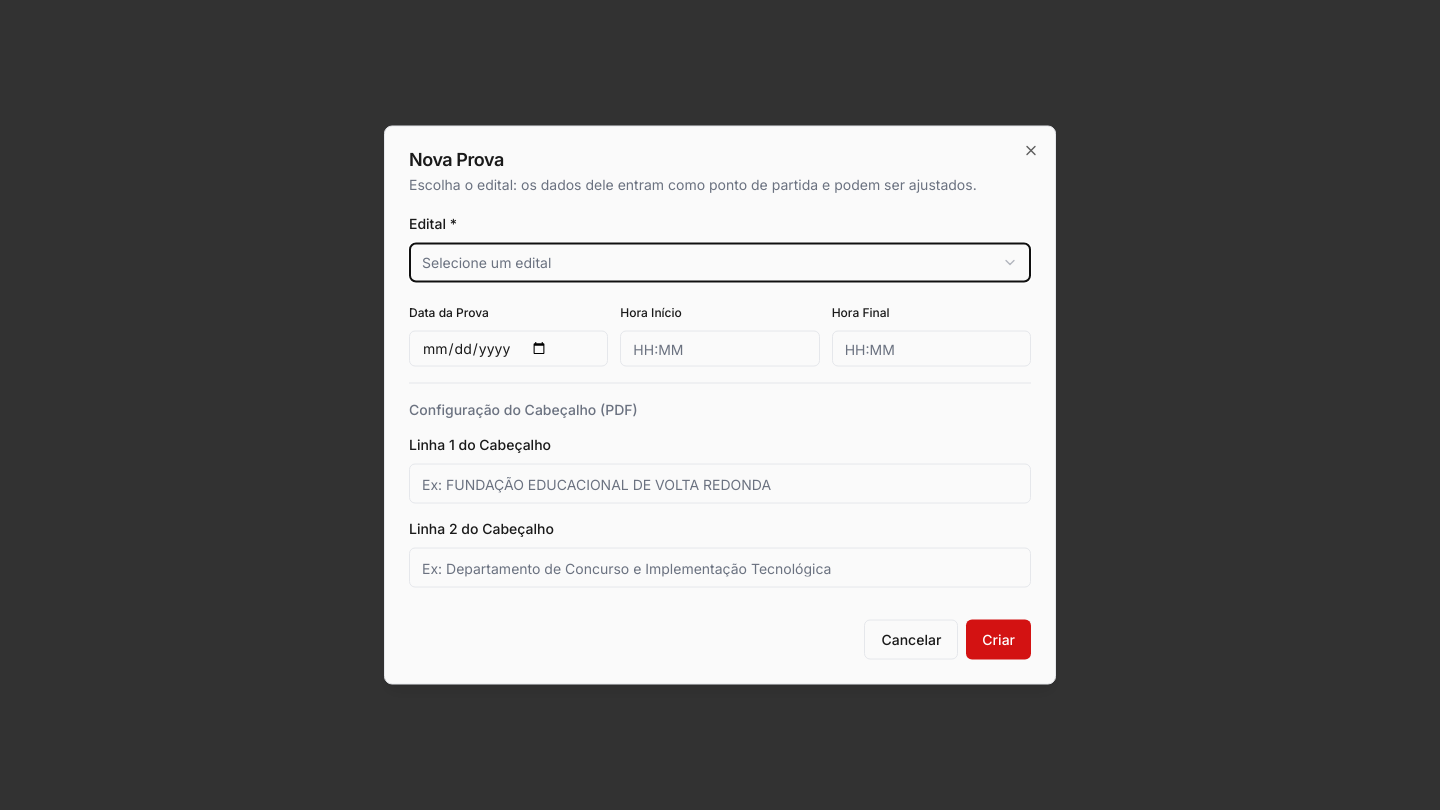
Test: ProvaDialog (interação) › herança edital → prova (D2/D3) › substitui a sugestão ao trocar de edital, ainda na criação
Step 1. Click the dropdown → (487,262), box [409,242,1031,282]
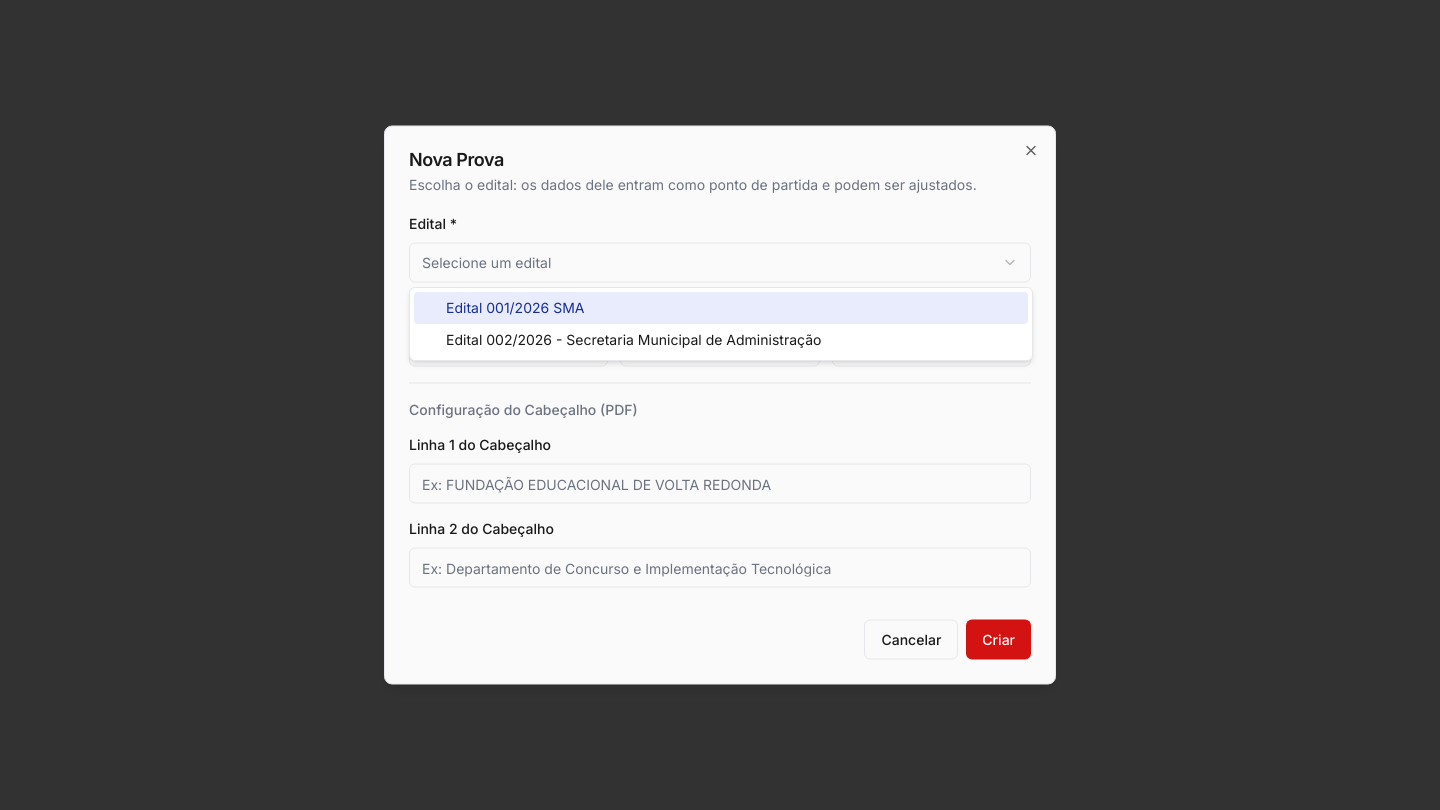
Step 2. Click the option "Edital 001/2026 SMA" → (515,308), box [414,292,1028,324]
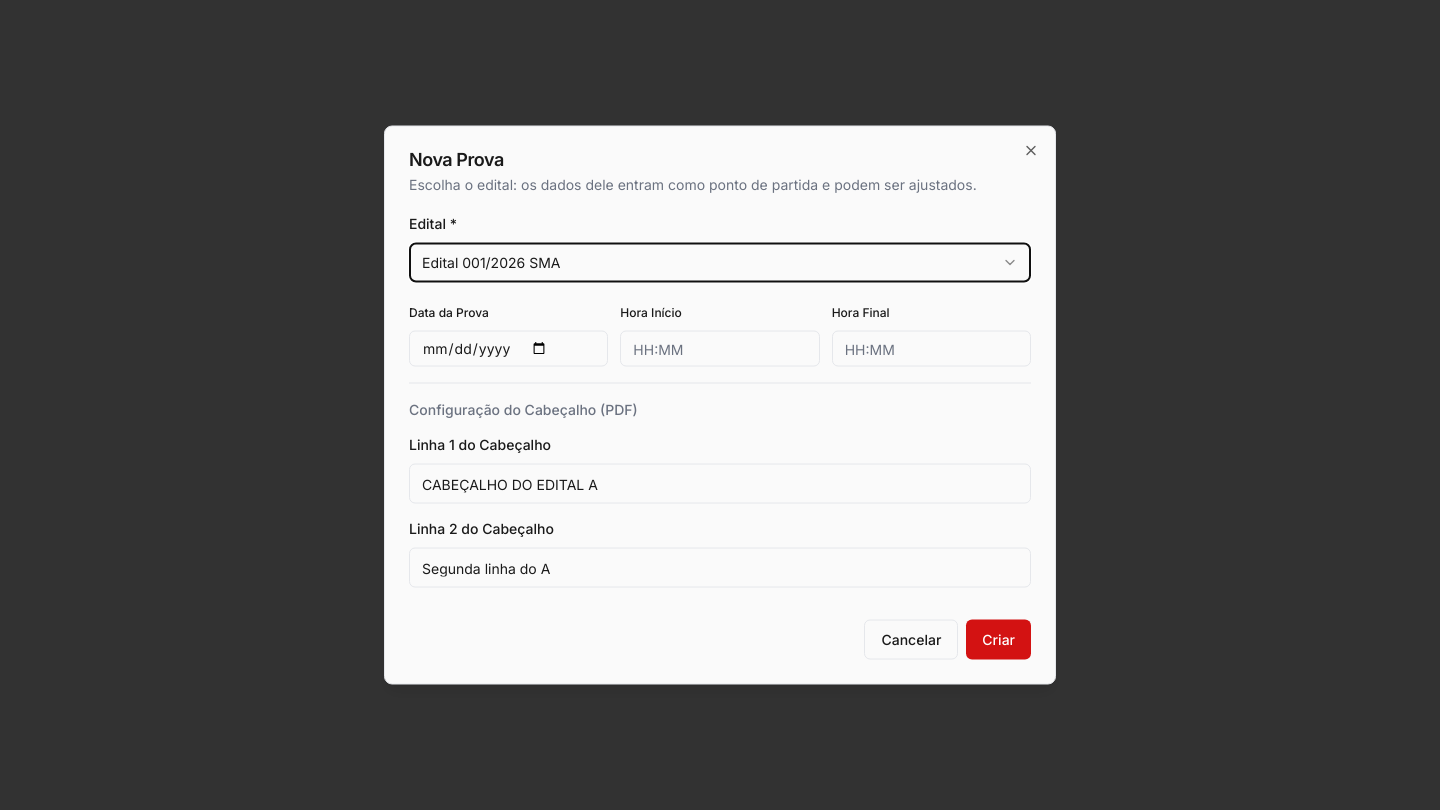
expect the field labelled "Linha 1 do Cabeçalho" holds "CABEÇALHO DO EDITAL A": met, box [409,464,1031,504]
Step 3. Click the dropdown → (491,262), box [409,242,1031,282]
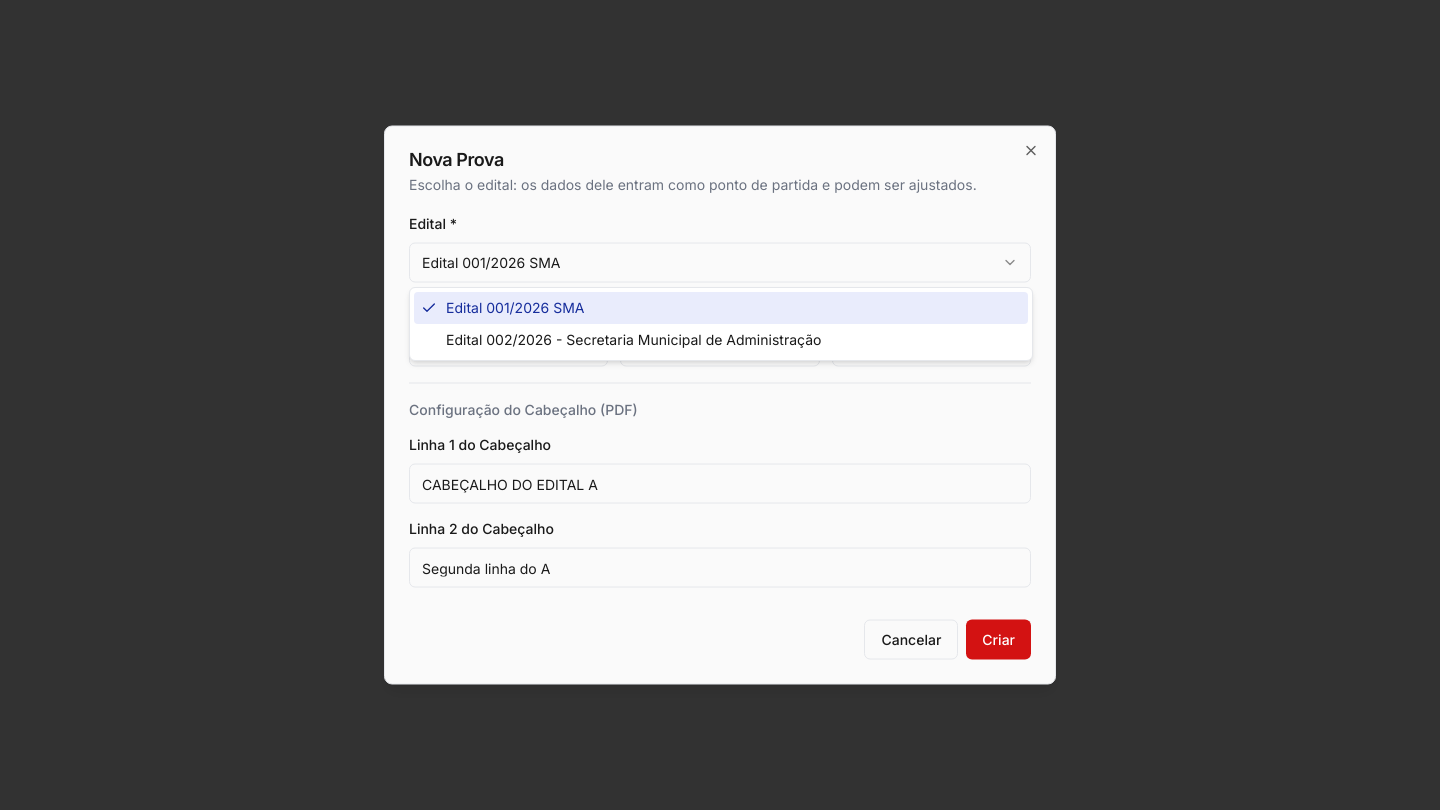
Step 4. Click the option "Edital 002/2026 - Secretaria Municipal de Administração" → (634,340), box [446,331,821,348]
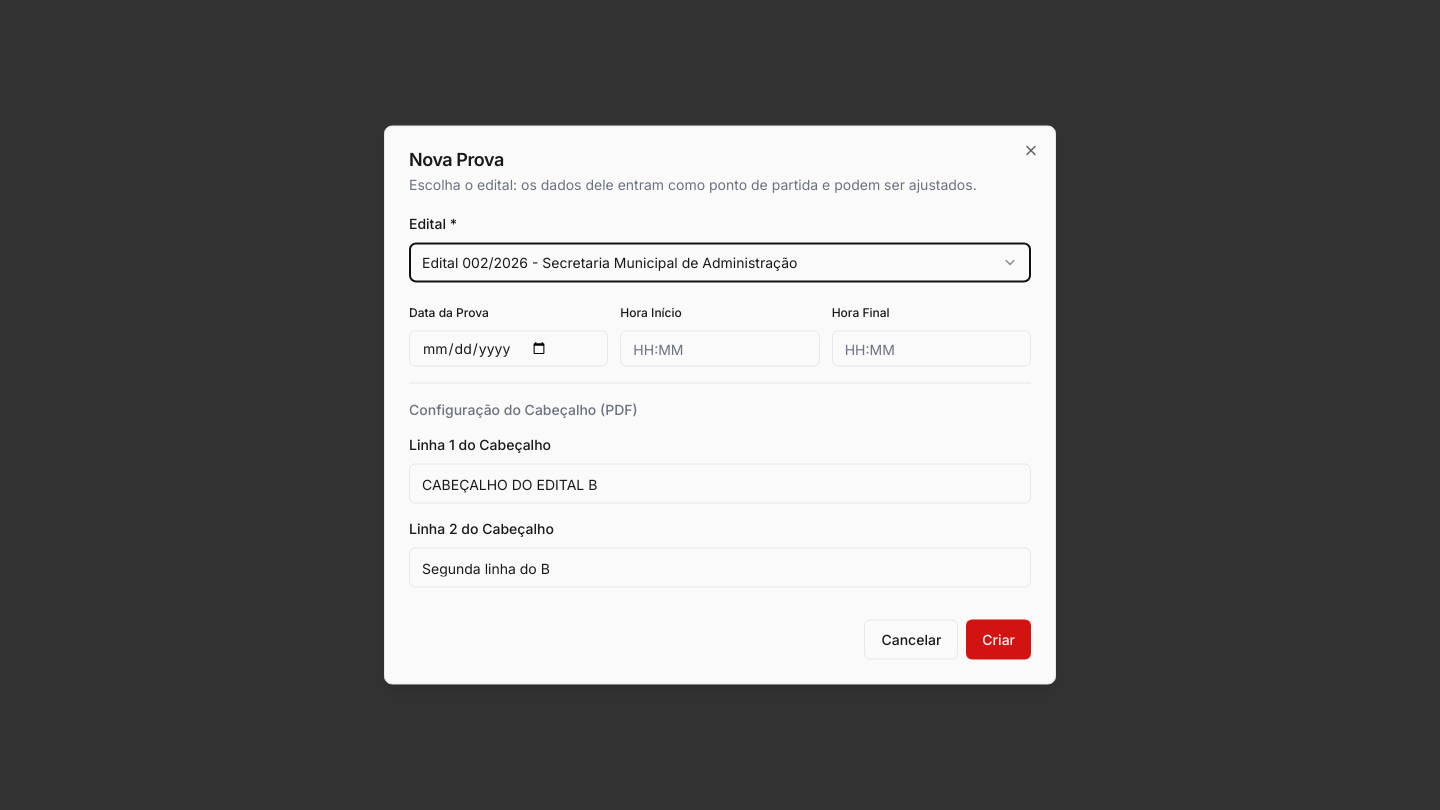
expect the field labelled "Linha 1 do Cabeçalho" holds "CABEÇALHO DO EDITAL B": met, box [409,464,1031,504]
